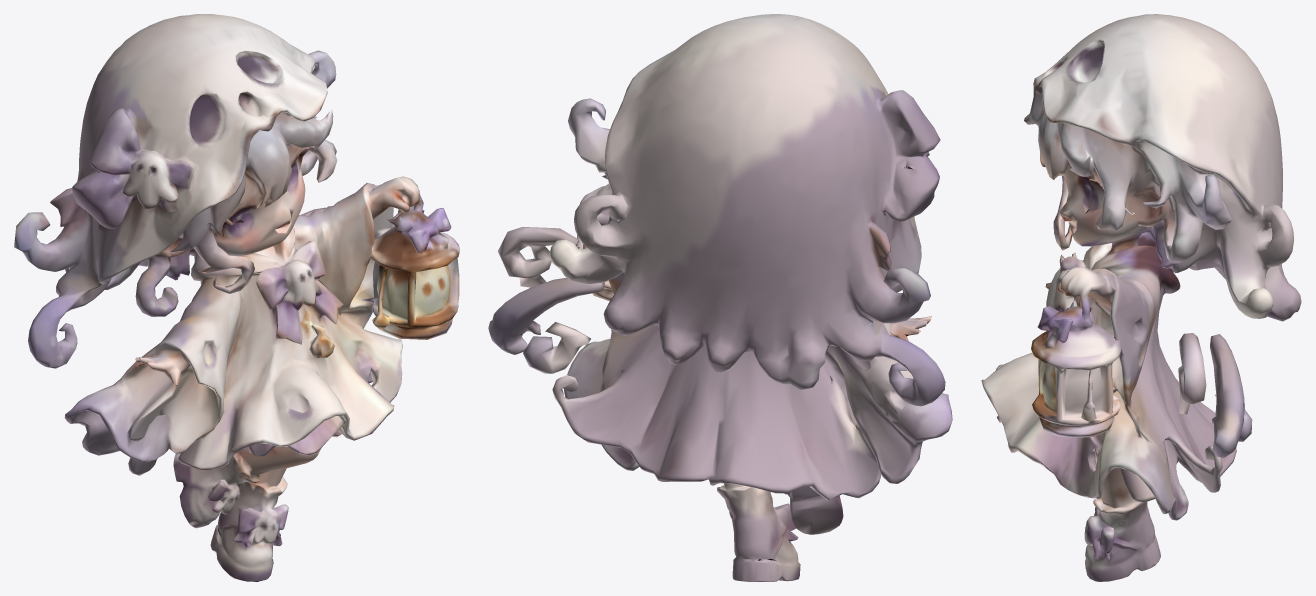
The model's file is ghost_with_lantern_roblox.glb.
The picture shows the model from 3 angles, left to right: view 1: azimuth 30°, elevation 25°; view 2: azimuth 150°, elevation 25°; view 3: azimuth 270°, elevation 25°; orthographic projection. The views are drawn at different scales.
Visible parts, largest first — view 1: HalloweenGhostWithLantern_Part002, HalloweenGhostWithLantern_Eyes; view 2: HalloweenGhostWithLantern_Part002; view 3: HalloweenGhostWithLantern_Part002, HalloweenGhostWithLantern_Eyes.
Boxes of the visible parts, left/top/right/bottom form: HalloweenGhostWithLantern_Part002: left=14, top=14, right=459, bottom=581; HalloweenGhostWithLantern_Eyes: left=242, top=152, right=303, bottom=248; HalloweenGhostWithLantern_Part002: left=488, top=14, right=952, bottom=581; HalloweenGhostWithLantern_Part002: left=981, top=14, right=1301, bottom=581; HalloweenGhostWithLantern_Eyes: left=1040, top=152, right=1093, bottom=243.
Size of the model in its own units: 2.78 by 3.57 by 1.92.
Materials: 1 (1 with a texture image).
